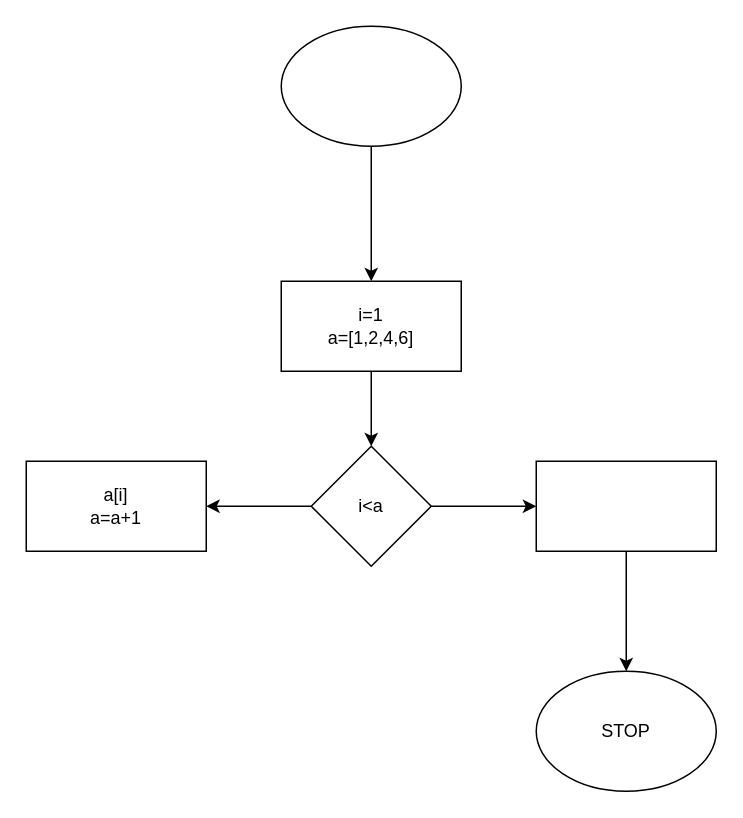
Image size: 743x818. Some labels were removed from this diagram. Each missing label, with the centre of its shape:
"START" goes at point (370, 85).
"wyswietl iloczyn a" goes at point (625, 505).
